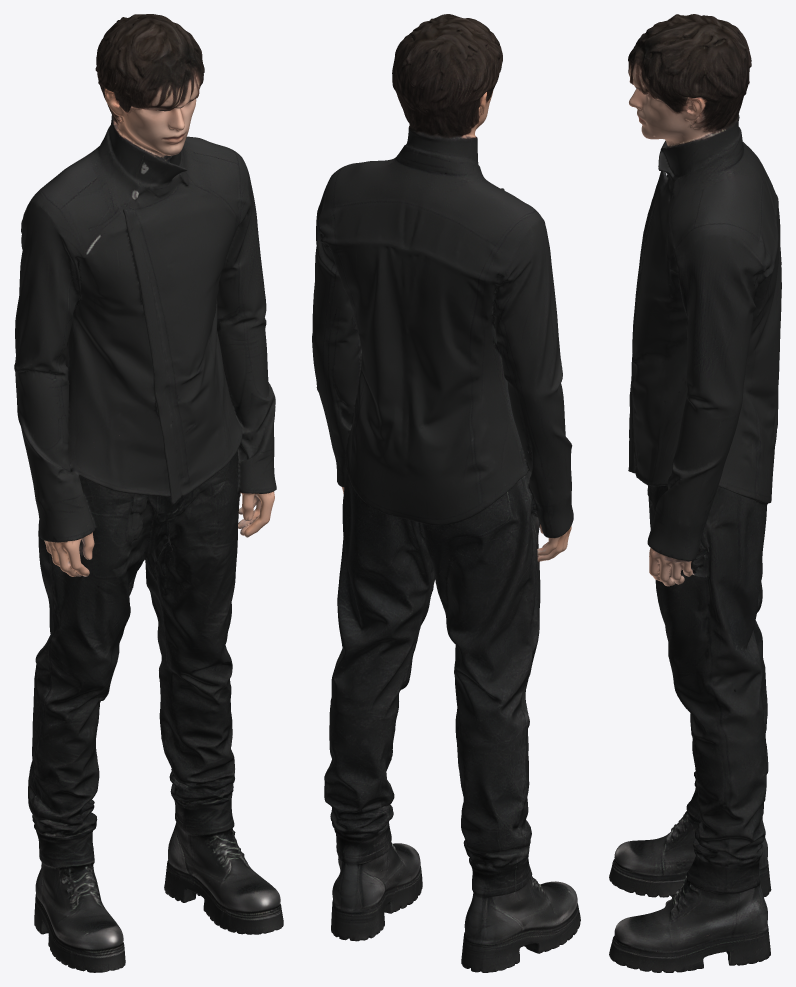
File: Dark Futurism.glb
3 renders of one model, left to right at view 1: azimuth 30°, elevation 25°; view 2: azimuth 150°, elevation 25°; view 3: azimuth 270°, elevation 25°, orthographic.
Bounding box in the file's own units: 0.5371 × 1.9 × 0.329.
1 material, 1 textured.
